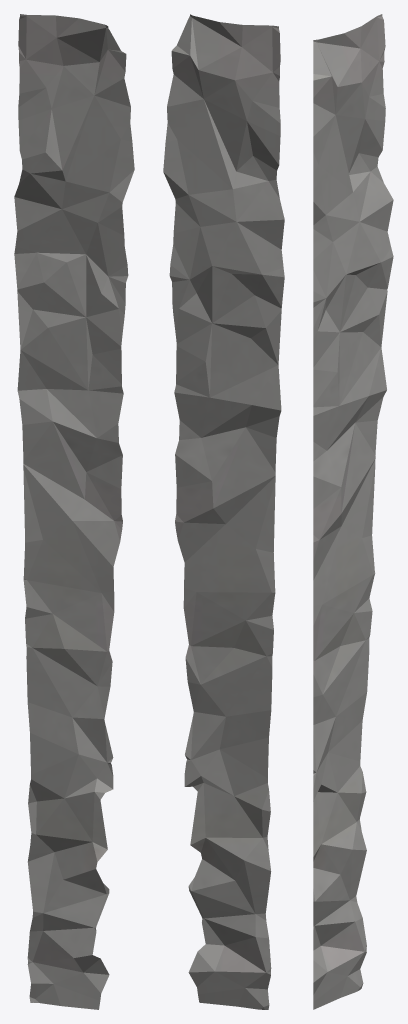
3 renders of one model, left to right at view 1: azimuth 30°, elevation 25°; view 2: azimuth 210°, elevation 25°; view 3: azimuth 270°, elevation 25°, orthographic.
Size of the model in its own units: 0.0714 by 0.8373 by 0.0625.
Materials: 1 (1 with a texture image).
